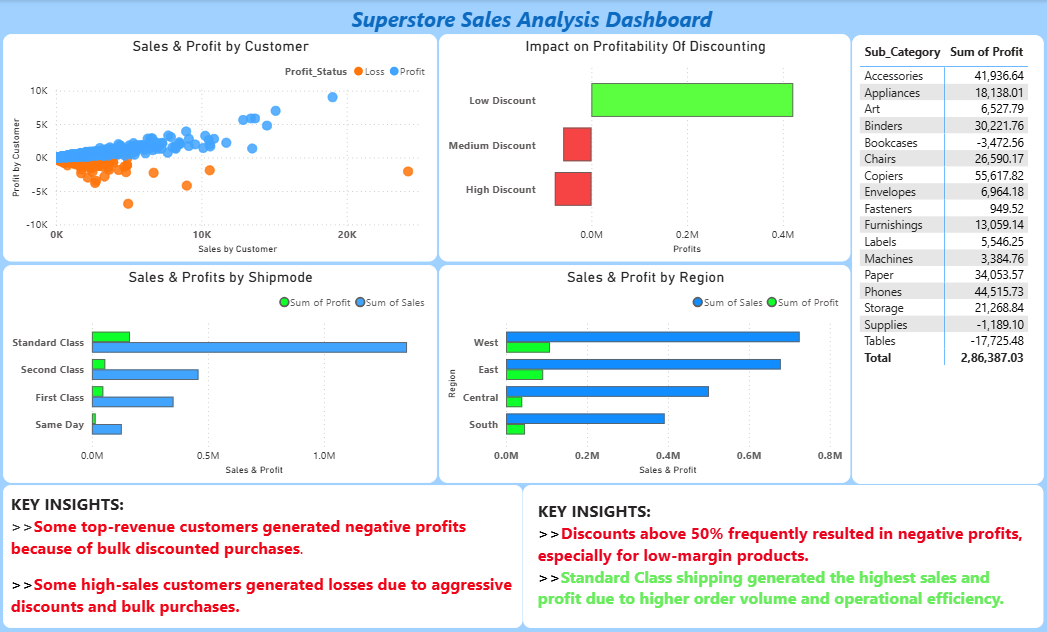

The page's visual inventory and layout, read from the dashboard file:
{"tool":"powerbi","page":{"name":"Page 1","canvas":[1202,725],"ordinal":1},"visuals":[{"type":"scatterChart","title":"Sales & Profit by Customer","fields":{"X":["Sum(sales_data.Sales)"],"Category":["sales_data.Customer_ID"],"Y":["Sum(sales_data.Profit)"],"Series":["sales_data.Profit_Status"]},"box":[4.6,39.2,497.6,261.5],"z":0},{"type":"barChart","title":"Impact on Profitability Of Discounting","fields":{"Category":["sales_data.Discount_Group"],"Y":["Sum(sales_data.Profit)"]},"box":[504.5,39.2,472.3,261.5],"z":1000},{"type":"pivotTable","fields":{"Rows":["sales_data.Sub_Category"],"Values":["Sum(sales_data.Profit)"]},"box":[978,40.3,220,514.9],"z":2000},{"type":"clusteredBarChart","title":"Sales & Profits by Shipmode","fields":{"Category":["sales_data.Ship_ Mode"],"Y":["Sum(sales_data.Profit)","Sum(sales_data.Sales)"]},"box":[4.6,304.1,497.6,250],"z":3000},{"type":"clusteredBarChart","title":"Sales & Profit by Region","fields":{"Category":["sales_data.Region"],"Y":["Sum(sales_data.Sales)","Sum(sales_data.Profit)"]},"box":[504.5,304.1,472.3,250],"z":4000},{"type":"textbox","box":[4.6,556.4,595.5,163.6],"z":5000},{"type":"textbox","box":[601.3,556.4,596.7,163.6],"z":6000},{"type":"textbox","box":[317.9,0,581.7,43.8],"z":6001}]}

Visuals, with their boxes in screenshot pixels (x1, y1, x2, y2), scaled from the page's 1202x725 canvas onto the 1047x632 screenshot:
"Sales & Profit by Customer" scatterChart: [4, 34, 437, 262]
"Impact on Profitability Of Discounting" barChart: [439, 34, 851, 262]
pivotTable - sales_data.Sub_Category x Sum(sales_data.Profit): [852, 35, 1044, 484]
"Sales & Profits by Shipmode" clusteredBarChart: [4, 265, 437, 483]
"Sales & Profit by Region" clusteredBarChart: [439, 265, 851, 483]
textbox: [4, 485, 523, 628]
textbox: [524, 485, 1044, 628]
textbox: [277, 0, 784, 38]
